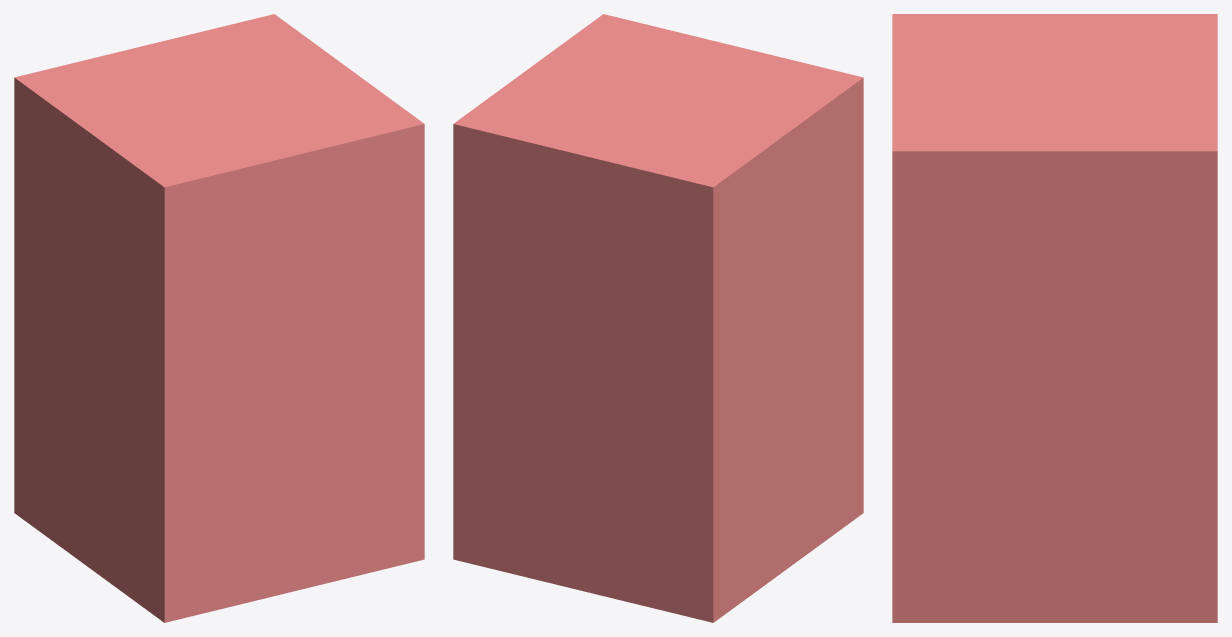
The model's file is LightOnlyShadows.glb.
3 views of the same model, side by side, from view 1: azimuth 30°, elevation 25°; view 2: azimuth 150°, elevation 25°; view 3: azimuth 270°, elevation 25° (orthographic). The views are drawn at different scales.
Visible parts, largest first — view 1: Caster; view 2: Caster; view 3: Caster.
Part boxes in pixels (x1,y1,x2,y2): Caster: [14, 14, 424, 622]; Caster: [453, 14, 863, 622]; Caster: [892, 14, 1217, 622].
Size of what is drawn, in the model's own units: 1 by 1.6 by 1.
